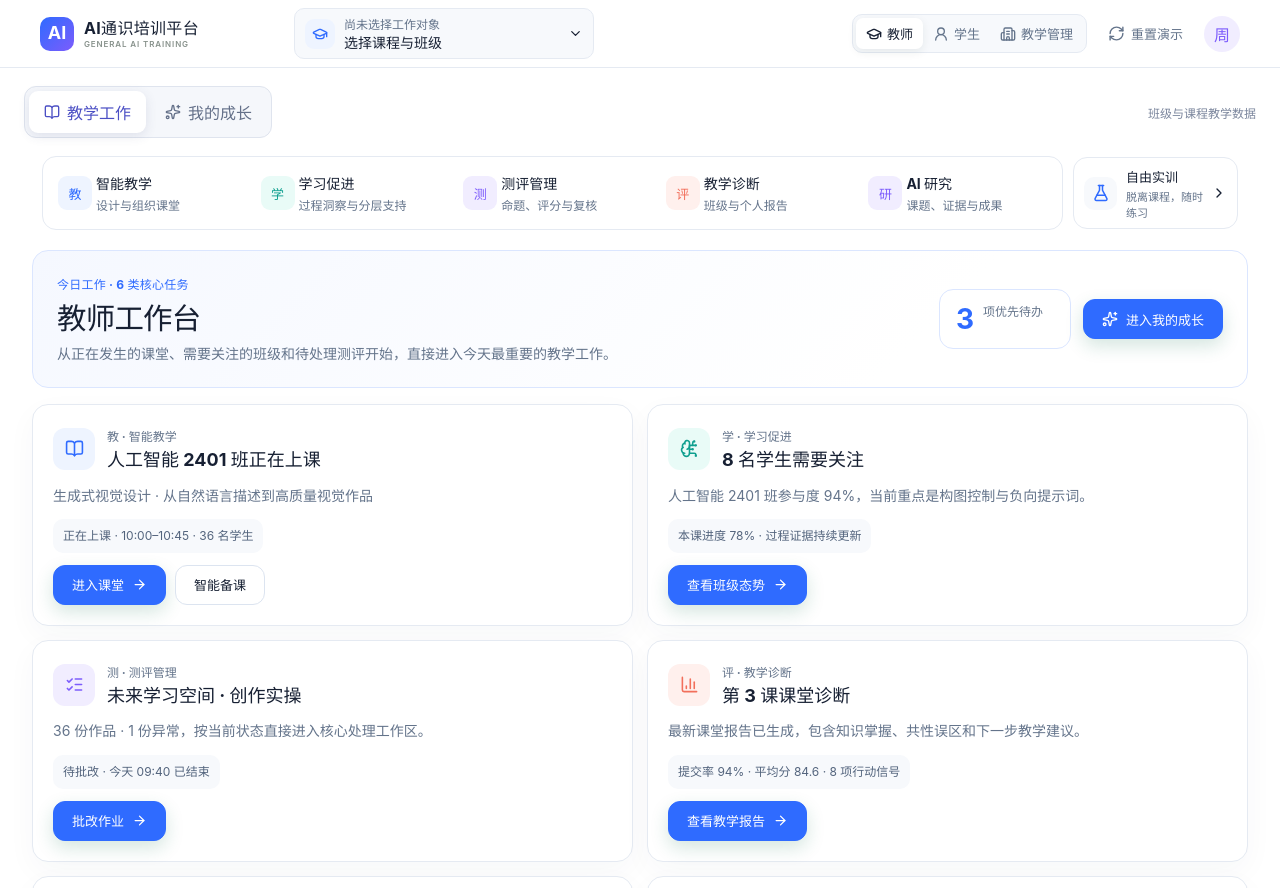
AI通识培训平台能力主线 › 学生首页按课程和测评进入工作区，重置后回到教师首页
This screenshot has width=1280, height=888.
Click the button "学生" at point(956, 34), box left=923, top=18, right=990, bottom=49
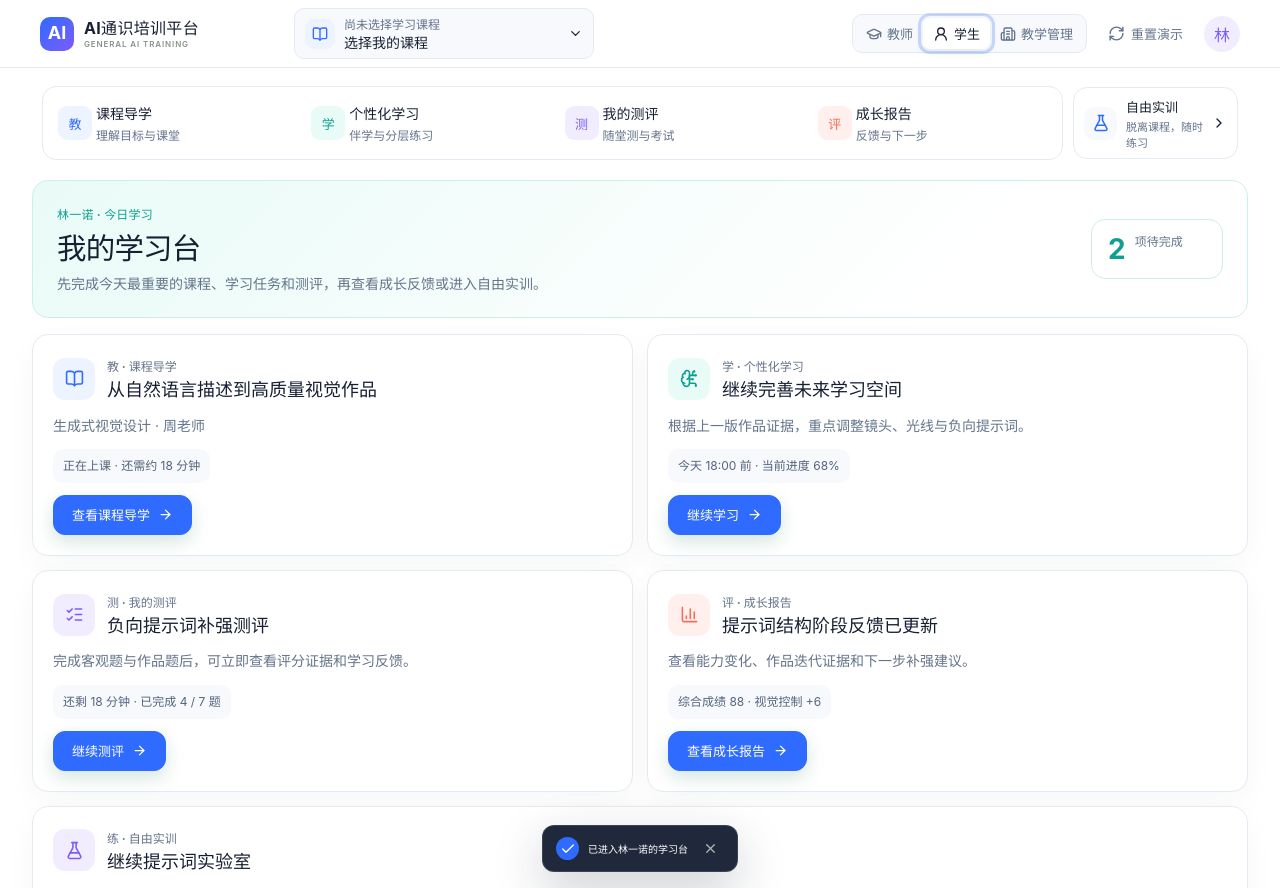
Check: the heading "我的学习台" is shown, box left=57, top=230, right=200, bottom=266
Check: the button "批改作业" is gone
Click the button "继续测评" at point(110, 751), box left=53, top=731, right=166, bottom=771
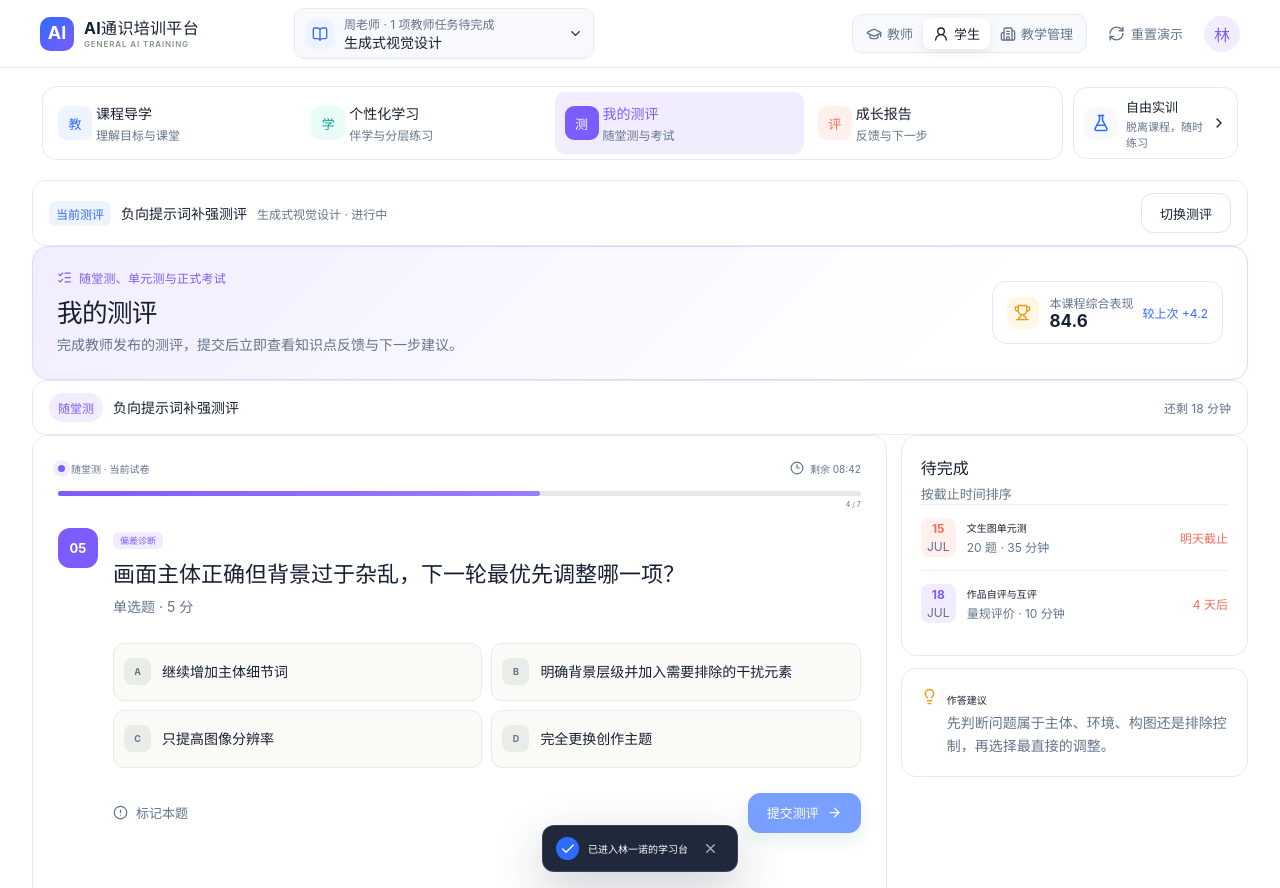
Check: the heading "我的测评" is shown, box left=57, top=297, right=157, bottom=328
Click the button "重置演示" at point(1146, 34), box left=1097, top=16, right=1194, bottom=52
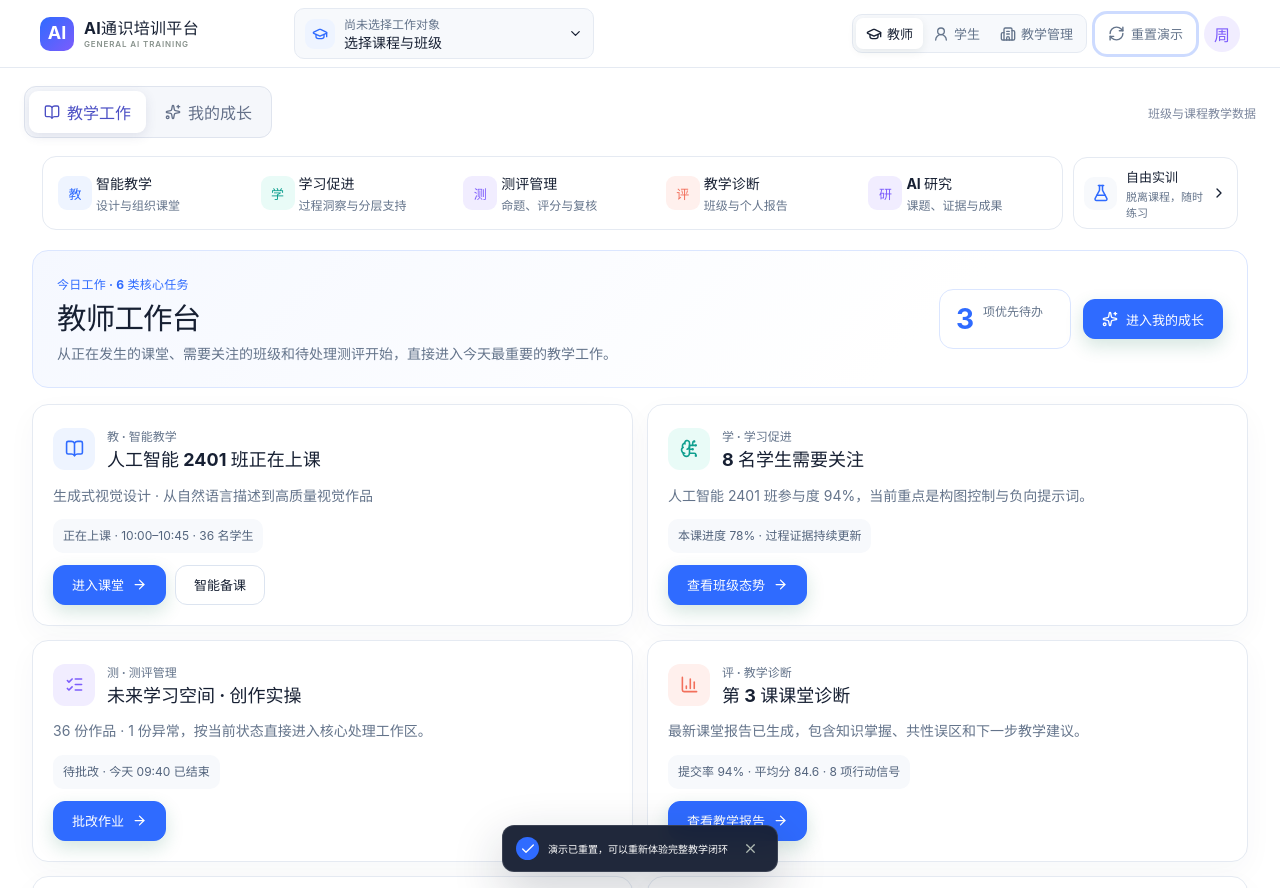
Check: the heading "教师工作台" is shown, box left=57, top=300, right=200, bottom=336
Check: the button "尚未选择工作对象 选择课程与班级" is shown, box left=294, top=8, right=594, bottom=59
